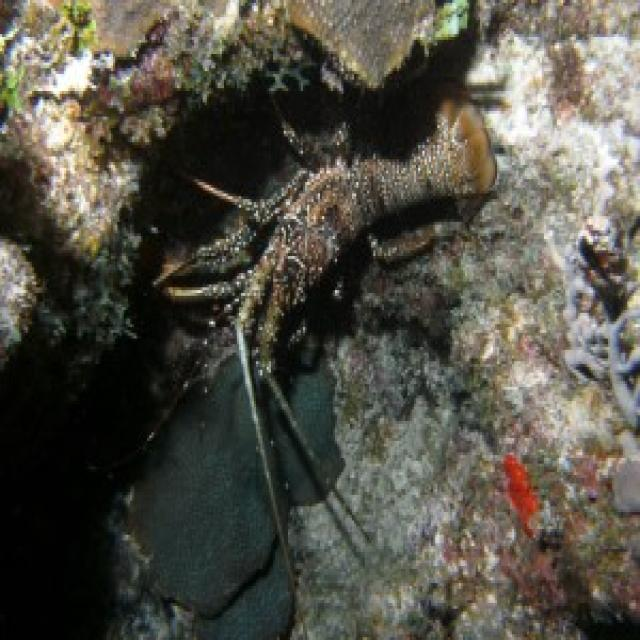lobsters: (126, 57, 550, 475)
